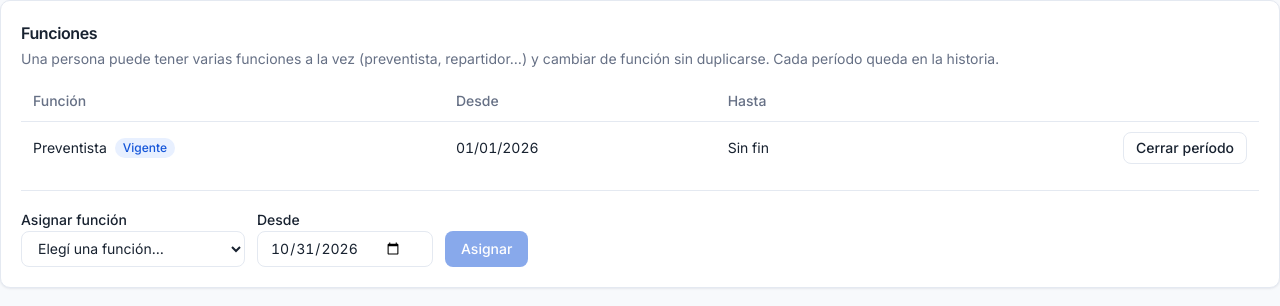
Test: EmployeeFunctions › shows history and lets an open period be closed
Expected: the text "Vigente" is shown, x1=115 y1=138 x2=175 y2=158
Expected: the text "Sin fin" is shown, x1=716 y1=121 x2=882 y2=174
Step 1. Click the button "Cerrar período" → coordinates (1185, 148), box x1=1123 y1=132 x2=1247 y2=164
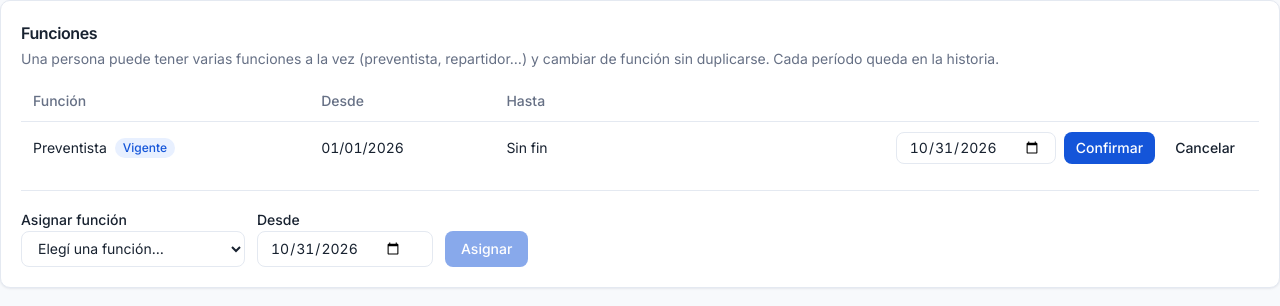
Expected: the date field named "Fin de Preventista" is shown, x1=896 y1=132 x2=1056 y2=164
